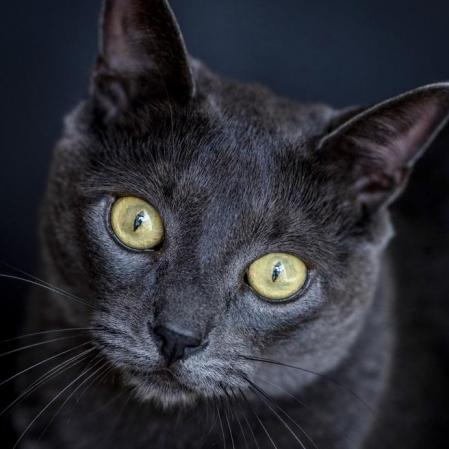cat: (34, 5, 431, 421)
